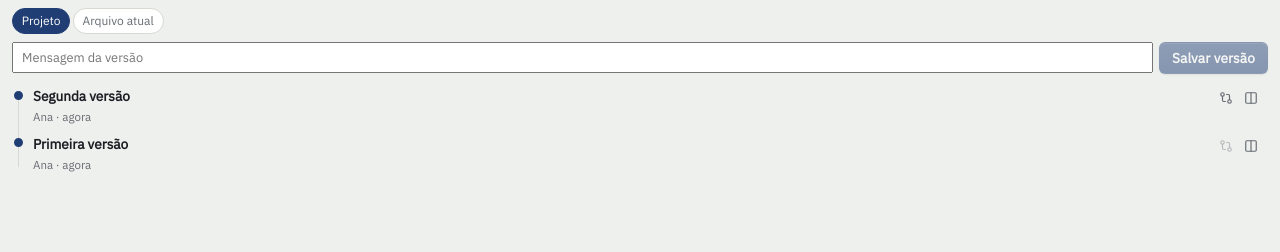
Test: HistoryPanel › file scope › shows unsaved changes and the commits that touched the active file
This screenshot has width=1280, height=252.
Click the button "Arquivo atual" at (118, 21), box [73,8,164,34]
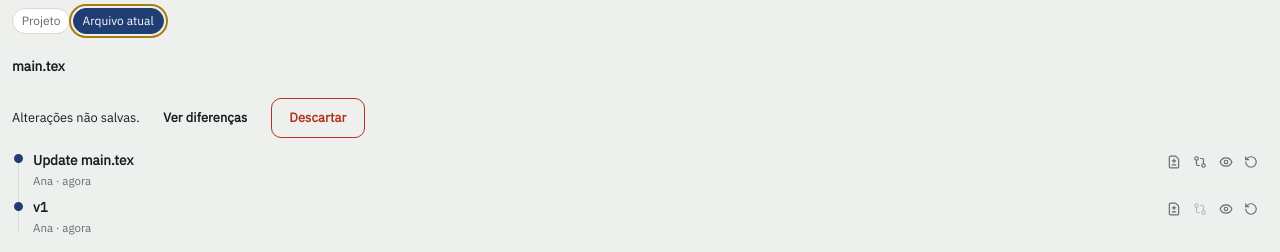
Expected: the text "Alterações não salvas." is shown, [12,109,140,126]
Expected: the text "v1" is shown, [33,198,48,216]
Expected: the text "Update main.tex" is shown, [33,151,133,169]
